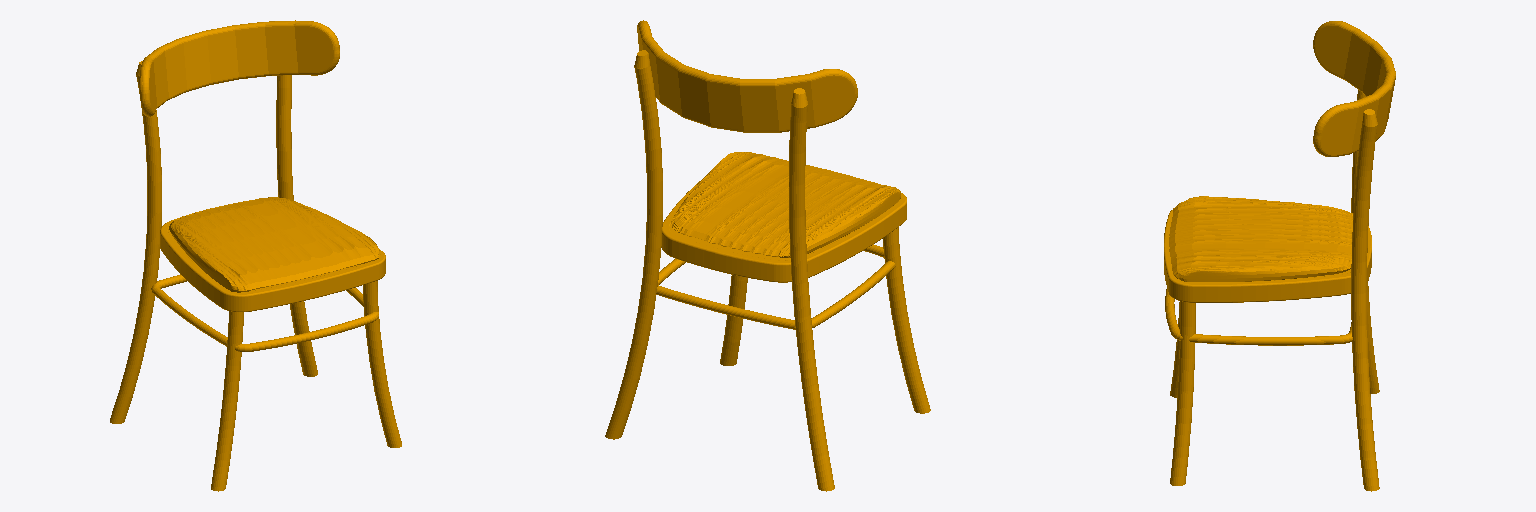
robot.urdf — 2a8d87523e23a01d5f40874aec1ee3a6:
<?xml version="1.0" ?>
<robot name="2a8d87523e23a01d5f40874aec1ee3a6" version="1.0">
  <link name="base_link">
    <inertial>
      <origin rpy="0.0 0.0 0.0" xyz="0.0 0.0 0.0"/>
      <mass value="0.0"/>
      <inertia ixx="0.001" ixy="0.0" ixz="0.0" iyy="0.001" iyz="0.0" izz="0.001"/>
    </inertial>
    <visual name="2a8d87523e23a01d5f40874aec1ee3a6___1">
      <origin rpy="0.0 0.0 0.0" xyz="0.0 -0.0 0.0"/>
      <geometry>
        <mesh filename="shape/visual/2a8d87523e23a01d5f40874aec1ee3a6_m1_vm.obj"/>
      </geometry>
    </visual>
    <visual name="2a8d87523e23a01d5f40874aec1ee3a6___2">
      <origin rpy="0.0 0.0 0.0" xyz="0.0 -0.0 0.0"/>
      <geometry>
        <mesh filename="shape/visual/2a8d87523e23a01d5f40874aec1ee3a6_m2_vm.obj"/>
      </geometry>
    </visual>
    <collision>
      <origin rpy="0.0 0.0 0.0" xyz="0.0 -0.0 0.0"/>
      <geometry>
        <mesh filename="shape/collision/2a8d87523e23a01d5f40874aec1ee3a6_cm.obj"/>
      </geometry>
    </collision>
  </link>
</robot>

--- Render facts (derived) ---
3 views of the same robot in one strip: view 1: azimuth 30°, elevation 25°; view 2: azimuth 150°, elevation 25°; view 3: azimuth 270°, elevation 25° (orthographic).
Robot: 2a8d87523e23a01d5f40874aec1ee3a6 — 1 links, 0 joints (none); root link base_link; default pose: all joints at 0.
Visible links, largest first — view 1: base_link; view 2: base_link; view 3: base_link.
Boxes of the visible links, left/top/right/bottom form: base_link: left=110, top=20, right=401, bottom=491; base_link: left=605, top=20, right=930, bottom=491; base_link: left=1164, top=21, right=1395, bottom=491.
Bounding box of the posed robot: 0.4582 × 0.4345 × 0.7751 m (x, y, z).
2 mesh visuals loaded from 2 distinct referenced files (2 OBJ).